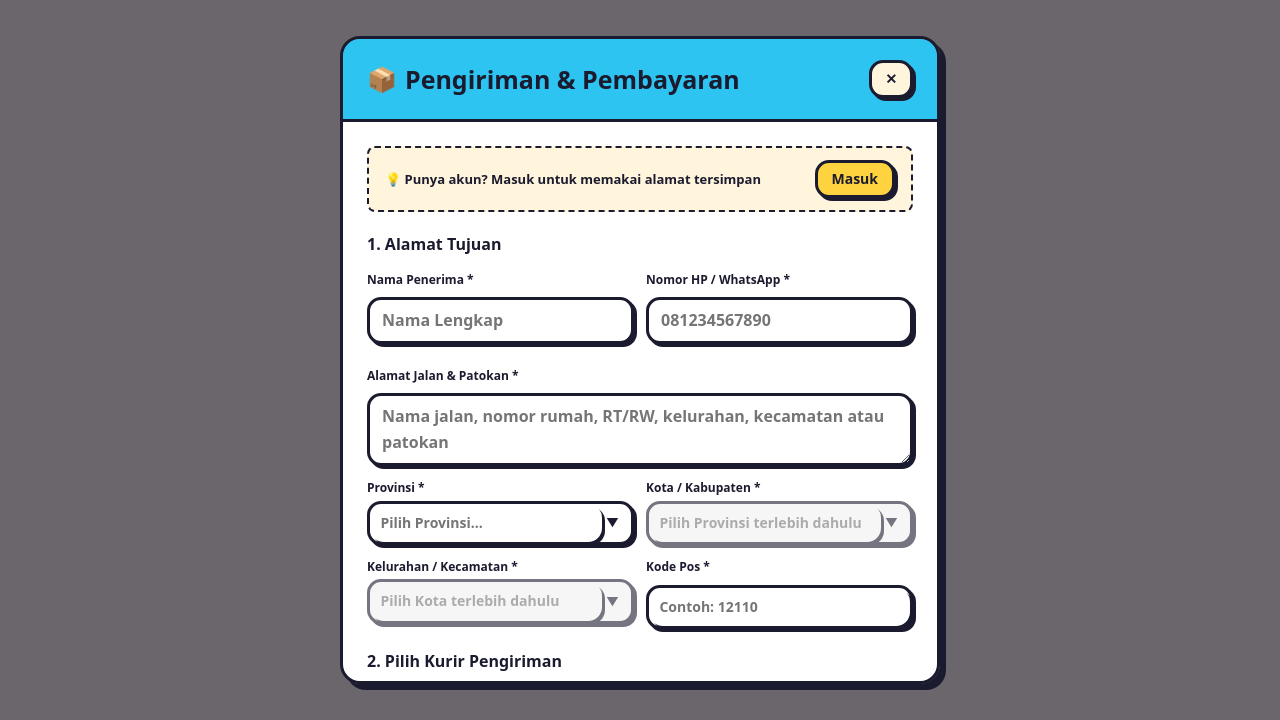
Test case: CheckoutModal › validasi alamat jalan dan kode pos
Replace the text in the text box labelled "Alamat Jalan & Patokan *" with "Jl. Mawar". click: coordinates (640, 430)
box: [367,393,913,466]
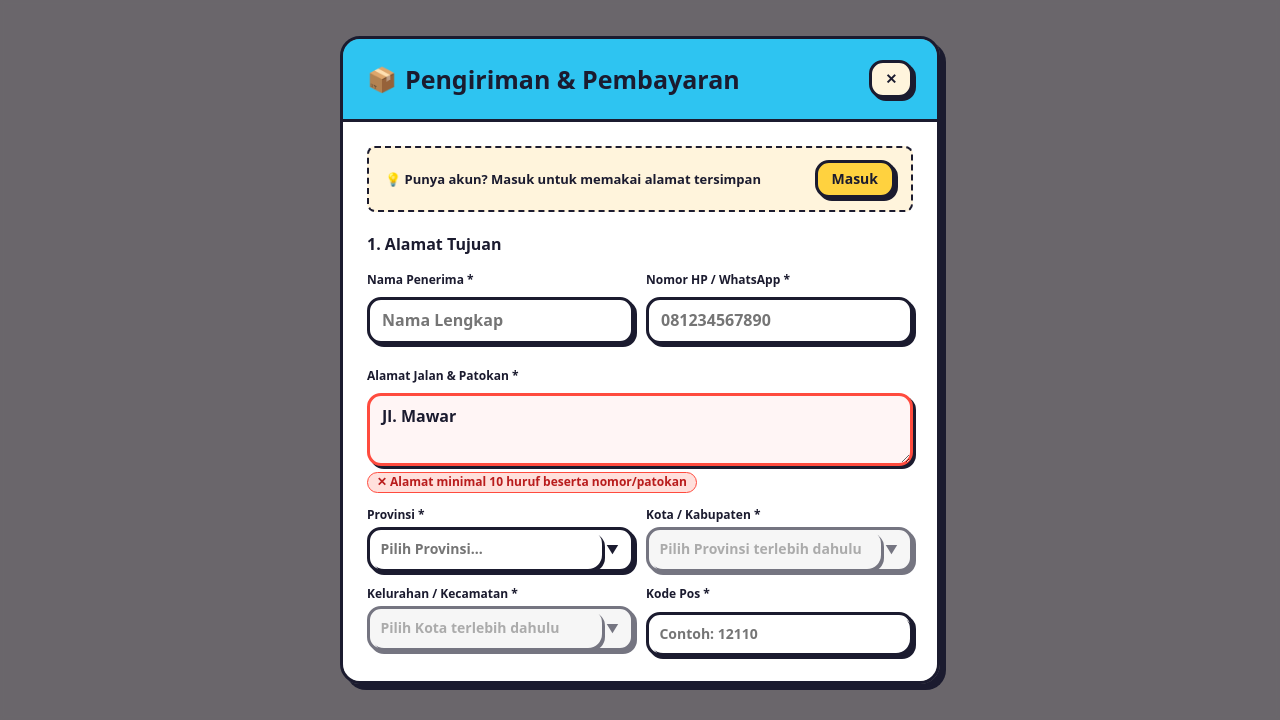
Result: the text "✕ Alamat minimal 10 huruf beserta nomor/patokan" is shown at [367,472,697,493]
// Alamat lengkap
Replace the text in the text box labelled "Alamat Jalan & Patokan *" with "Jl. Mawar Melati No. 10 Jakarta". click: coordinates (640, 430)
box: [367,393,913,466]
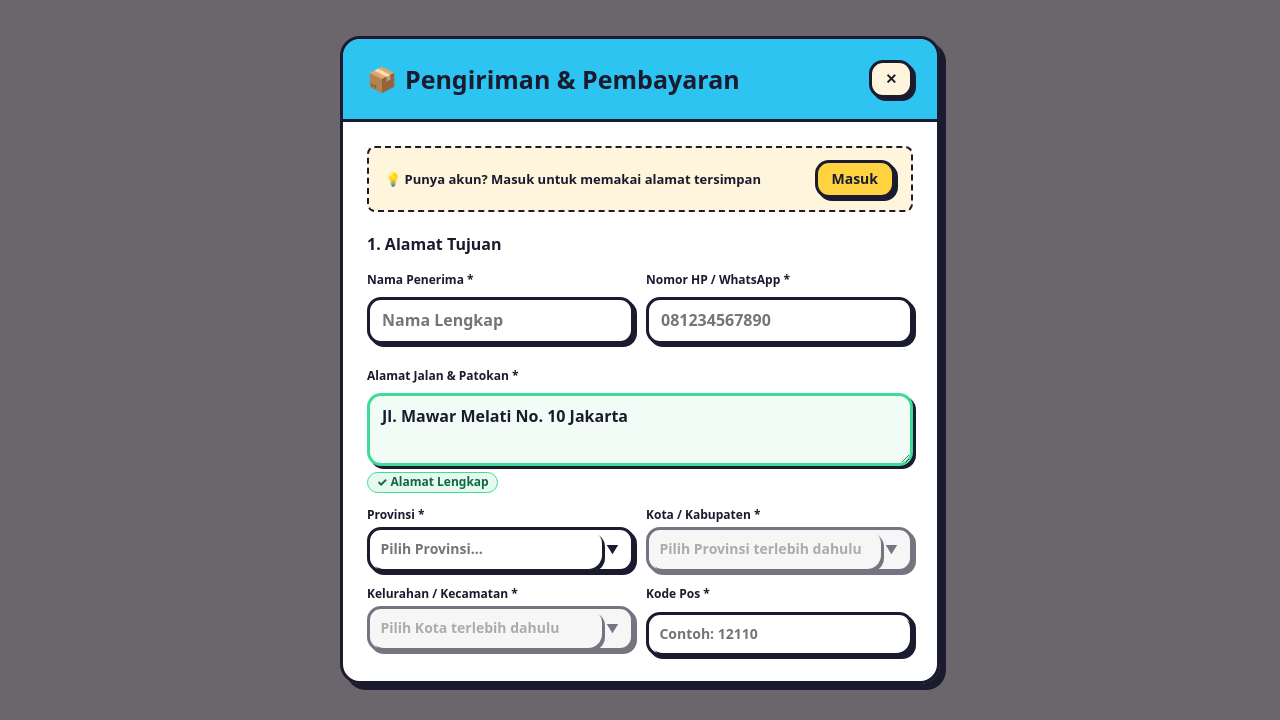
Result: the text "✓ Alamat Lengkap" is shown at [367,472,498,493]
// Kode pos tidak 5 digit angka
Type "123" into the field labelled "Kode Pos *". click: coordinates (780, 634)
box: [649,615,910,653]
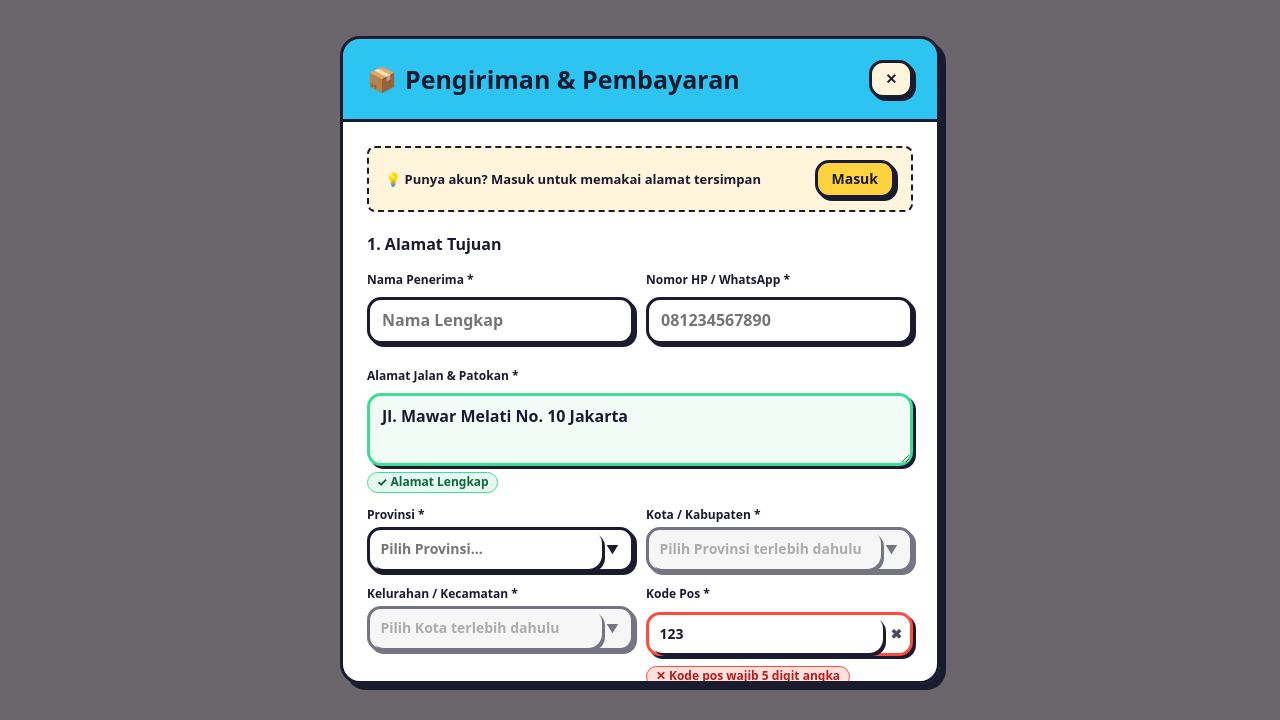
Result: the text "✕ Kode pos wajib 5 digit angka" is shown at [646,666,850,684]
// Kode pos valid
Replace the text in the field labelled "Kode Pos *" with "12345". click: coordinates (766, 634)
box: [649,615,883,653]
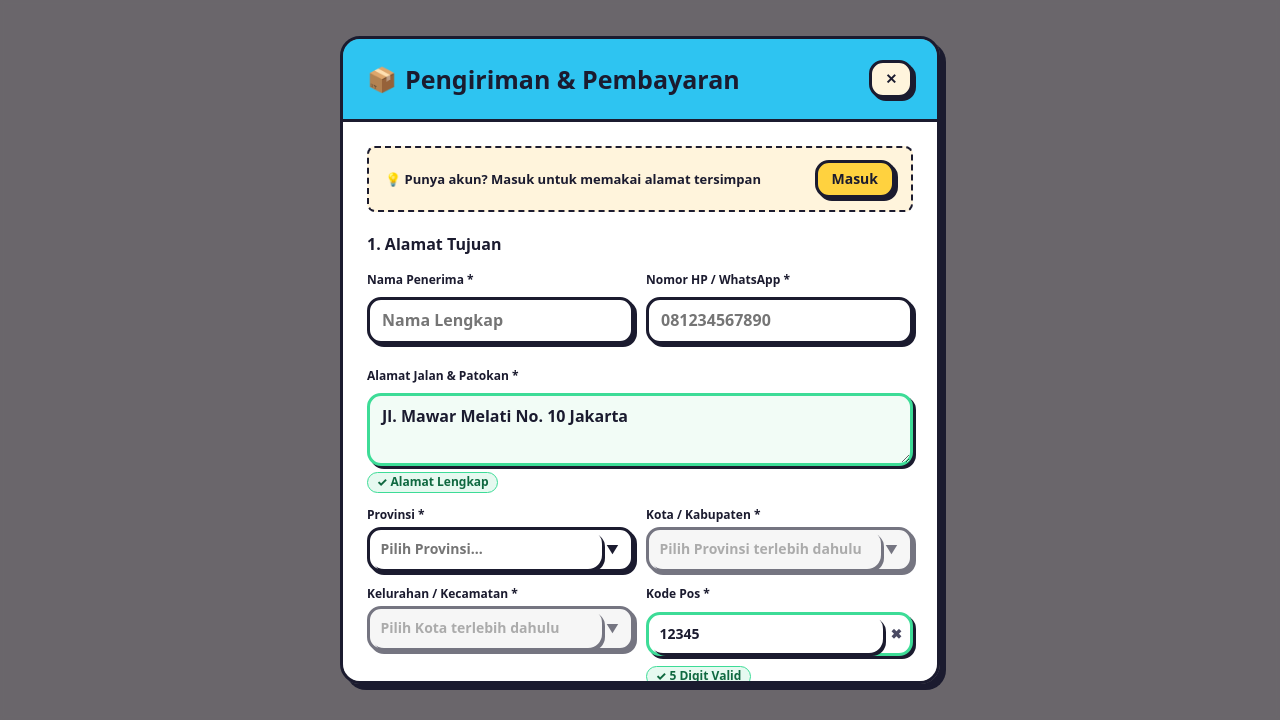
Result: the text "✓ 5 Digit Valid" is shown at [646,666,751,684]
